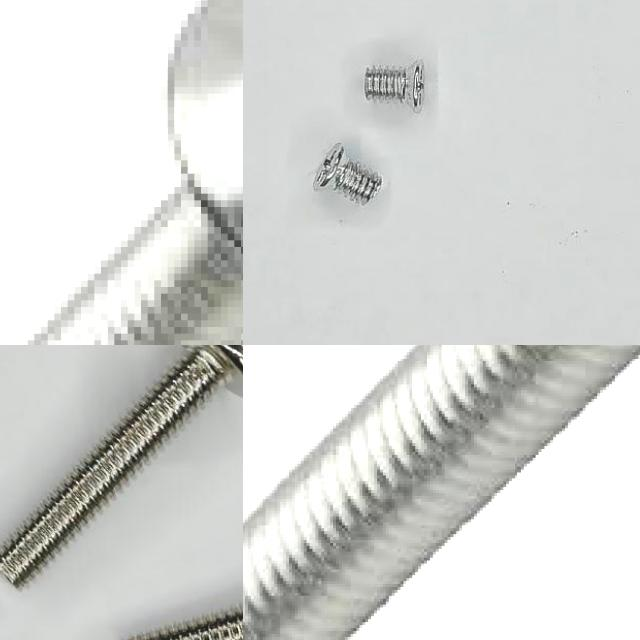Screw: (243, 345, 640, 640), (23, 0, 243, 345), (0, 345, 243, 587), (312, 143, 382, 205), (131, 606, 243, 640), (131, 607, 243, 640), (362, 59, 424, 113)
